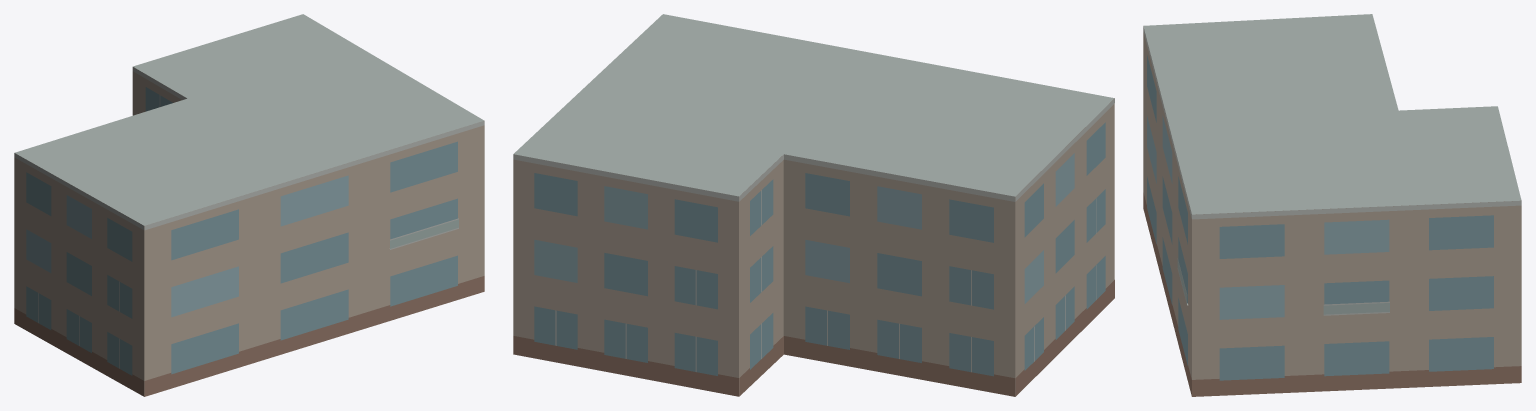
Rendered from survey-upis-32921095.glb.
3 views of the same model, side by side, from view 1: azimuth 30°, elevation 25°; view 2: azimuth 150°, elevation 25°; view 3: azimuth 270°, elevation 25° (orthographic). The views are drawn at different scales.
Visible parts, largest first — view 1: survey-upis-32921095.tmp; view 2: survey-upis-32921095.tmp; view 3: survey-upis-32921095.tmp.
Boxes of the visible parts, left/top/right/bottom form: survey-upis-32921095.tmp: left=14, top=14, right=484, bottom=396; survey-upis-32921095.tmp: left=513, top=14, right=1114, bottom=396; survey-upis-32921095.tmp: left=1143, top=14, right=1521, bottom=396.
Size of the model in its own units: 21.6 by 9.15 by 17.22.
